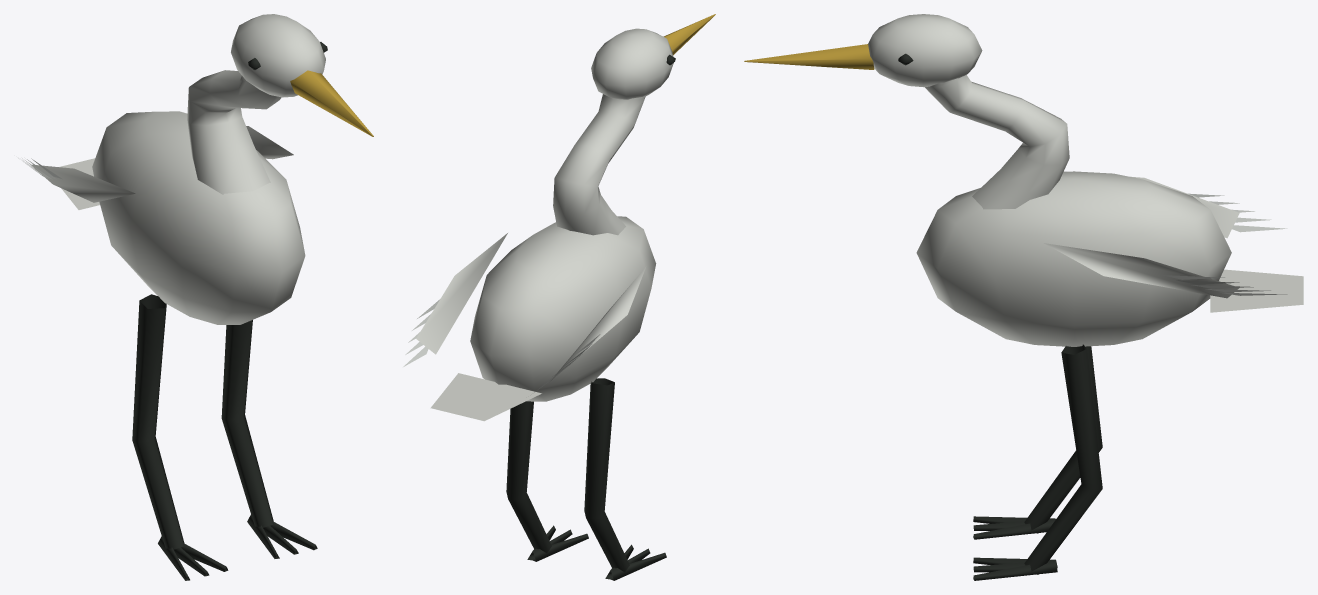
Rendered from cattle-egret-0.glb.
3 renders of one model, left to right at view 1: azimuth 30°, elevation 25°; view 2: azimuth 150°, elevation 25°; view 3: azimuth 270°, elevation 25°, orthographic. The views are drawn at different scales.
Parts seen in each view (by area): view 1: cattle-egret; view 2: cattle-egret; view 3: cattle-egret.
Part boxes in pixels (x1,y1,x2,y2): cattle-egret: [18, 14, 373, 580]; cattle-egret: [403, 14, 715, 580]; cattle-egret: [744, 14, 1303, 580].
Size of the model in its own units: 0.1928 by 0.5806 by 0.5501.
